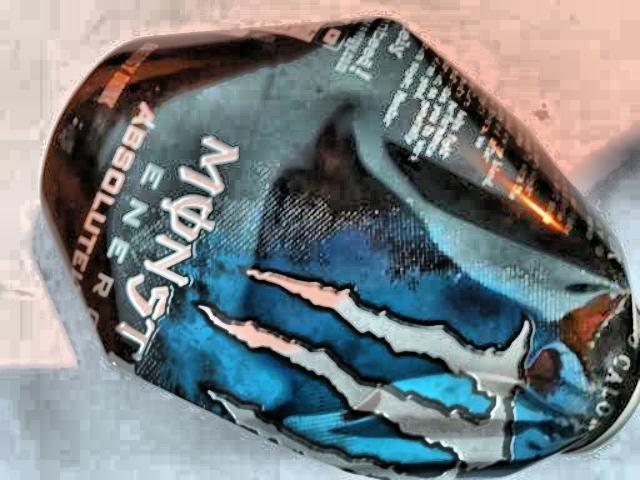Bottles: (22, 14, 640, 480)
